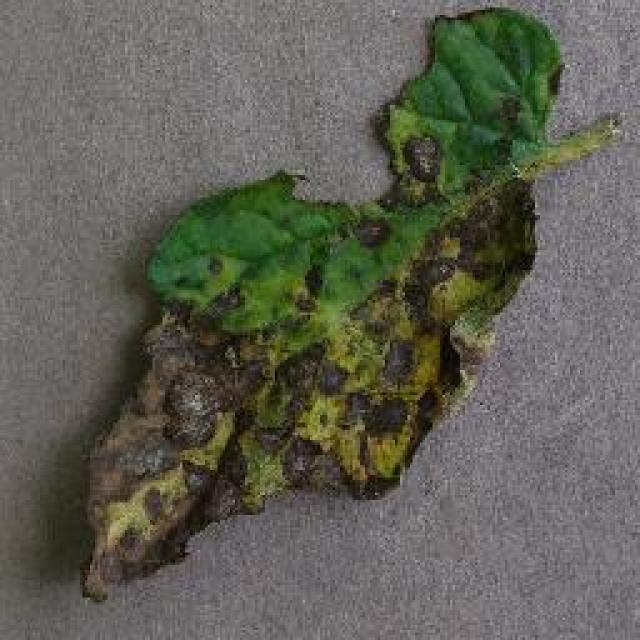leaf blight: (83, 5, 622, 595)
